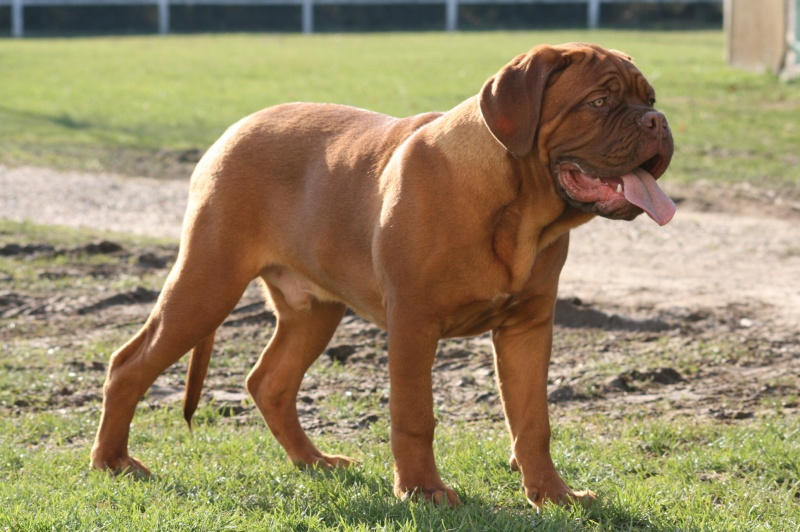dogue_de_bordeaux: (88, 39, 679, 514)
